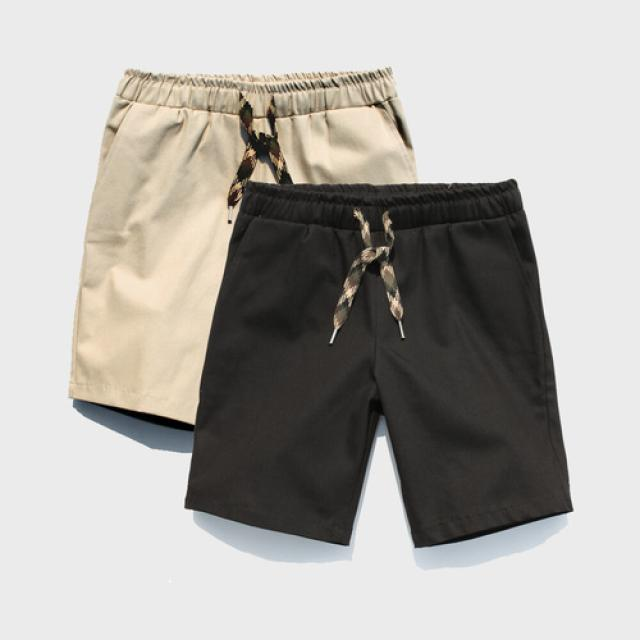dress: (198, 186, 568, 536)
